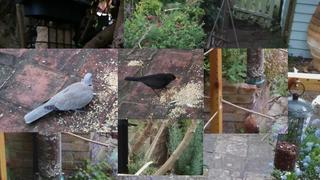blackbird: (124, 73, 180, 98)
collared dove: (24, 73, 94, 124)
